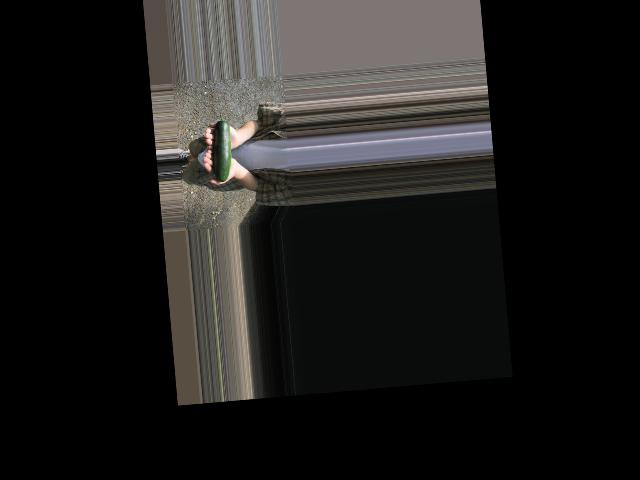cucumber: (208, 112, 234, 181)
